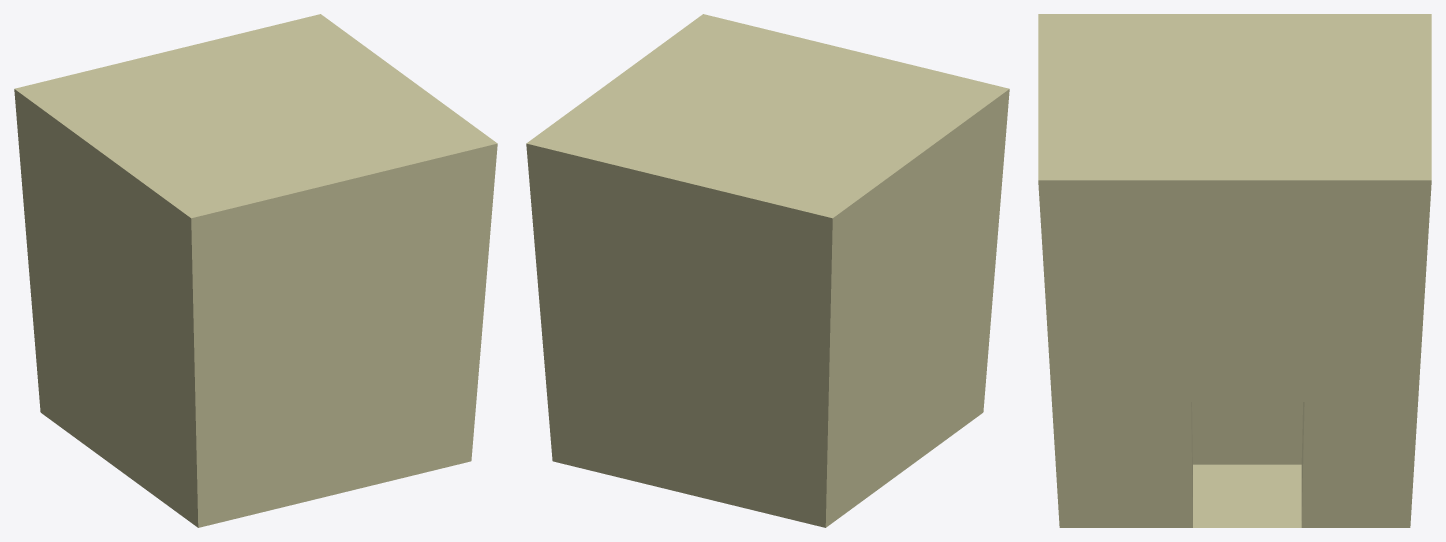
File: House1.fbx
3 views of the same model, side by side, from view 1: azimuth 30°, elevation 25°; view 2: azimuth 150°, elevation 25°; view 3: azimuth 270°, elevation 25° (orthographic). The views are drawn at different scales.
Visible parts, largest first — view 1: Cube; view 2: Cube; view 3: Cube.
Boxes of the visible parts, x1,y1,x2,y2 form: Cube: (14, 14, 497, 527); Cube: (526, 14, 1009, 527); Cube: (1038, 14, 1431, 527).
Bounding box in the file's own units: 1634 × 1634 × 1634.
